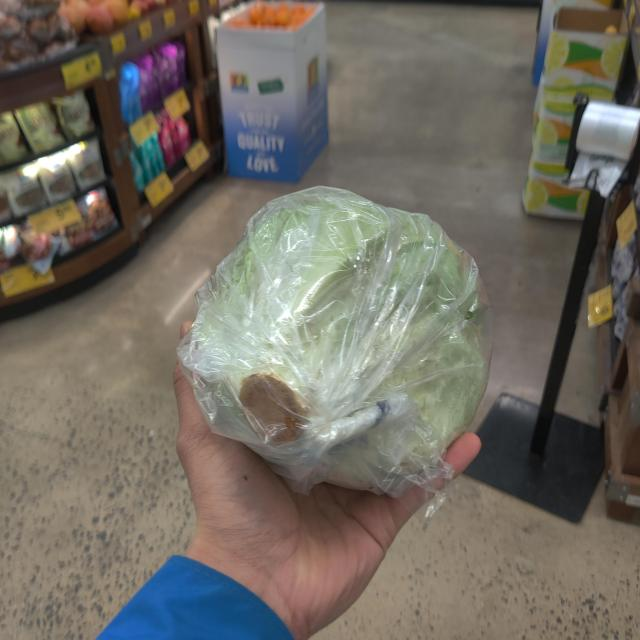Lettuce: (177, 184, 493, 488)
